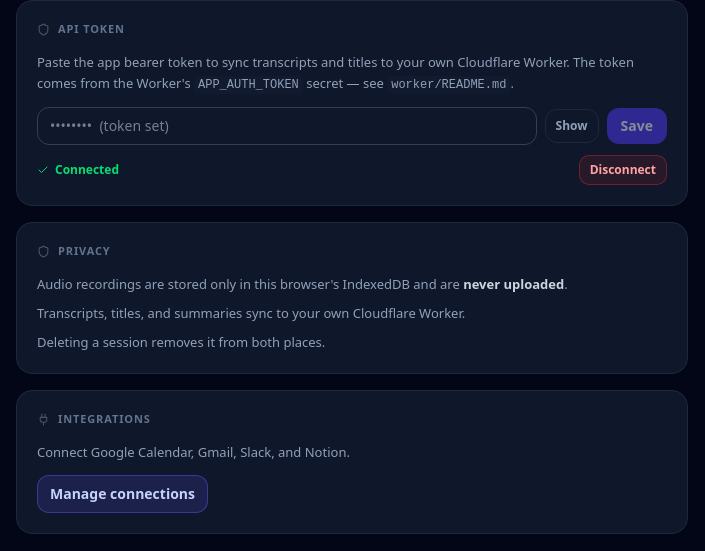
SettingsPage token card › Disconnect clears the stored token and pauses sync
Click the button "Disconnect".
click(623, 170)  # box [579,155,667,185]
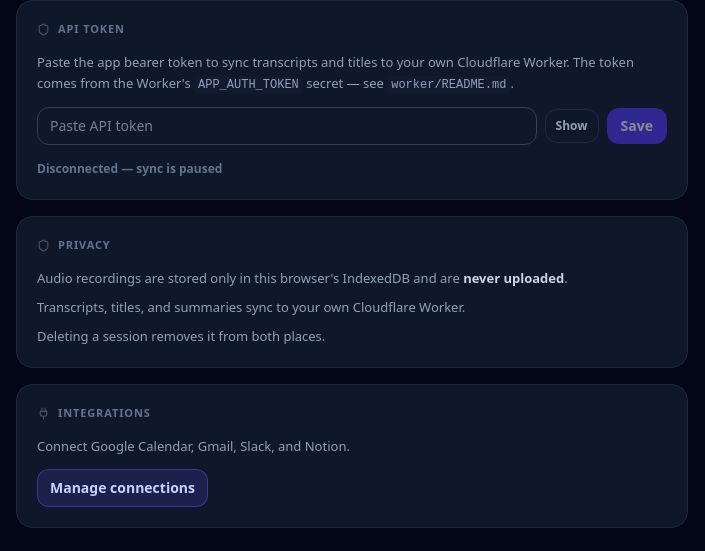
Expected: the element with test id "token-status" reads "Disconnected — sync is paused", [37,160,222,177]
